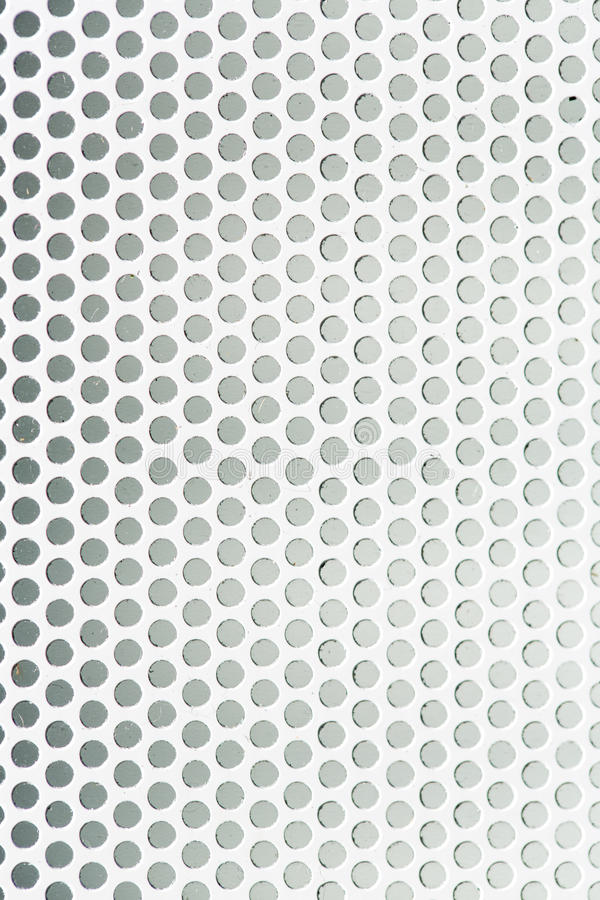Hole: (214, 7, 252, 43), (215, 289, 250, 327), (556, 9, 589, 48), (214, 89, 250, 124), (77, 291, 113, 326), (554, 373, 588, 410), (146, 290, 181, 325), (283, 131, 318, 166), (180, 229, 214, 265), (488, 253, 522, 289), (453, 352, 487, 388), (112, 228, 145, 265), (216, 249, 249, 286), (488, 331, 520, 369), (78, 7, 113, 41), (78, 88, 112, 123), (182, 108, 216, 143), (181, 190, 216, 224), (147, 333, 182, 367), (420, 9, 454, 44), (148, 8, 181, 44), (180, 70, 216, 103), (182, 269, 215, 305), (556, 50, 589, 86), (522, 70, 555, 106), (555, 251, 588, 287), (522, 273, 555, 309), (44, 352, 78, 386), (181, 28, 216, 61), (215, 170, 250, 203), (44, 230, 77, 265), (148, 250, 181, 285), (113, 271, 146, 306), (113, 312, 146, 347), (250, 69, 283, 104), (387, 151, 420, 186), (455, 30, 488, 65), (522, 111, 555, 146), (522, 192, 555, 227), (215, 50, 251, 82), (182, 311, 214, 347), (522, 314, 554, 350), (556, 333, 587, 370), (148, 89, 181, 123), (147, 129, 180, 163), (79, 130, 112, 164), (44, 271, 78, 304), (216, 333, 249, 367), (113, 354, 147, 387), (10, 373, 43, 407), (216, 373, 250, 406), (284, 212, 317, 246), (249, 232, 283, 265), (453, 313, 487, 346), (522, 355, 555, 389), (11, 7, 43, 42), (111, 29, 146, 61), (43, 69, 78, 101), (251, 150, 283, 185), (420, 333, 452, 368), (354, 9, 385, 45), (422, 130, 453, 166), (78, 49, 111, 82), (44, 108, 77, 141), (79, 212, 112, 245), (78, 374, 111, 407), (251, 29, 284, 62), (352, 132, 385, 165), (251, 191, 284, 224), (319, 192, 352, 225), (387, 193, 420, 226), (386, 313, 419, 346), (11, 47, 43, 81), (147, 50, 181, 82), (113, 69, 147, 101), (216, 131, 250, 163), (79, 170, 113, 202), (9, 251, 43, 283), (79, 251, 111, 285), (44, 311, 76, 345), (182, 353, 214, 387), (147, 374, 181, 406), (285, 49, 317, 83), (387, 72, 421, 104), (284, 91, 318, 123), (319, 110, 351, 144), (285, 171, 317, 205), (351, 173, 385, 205), (249, 272, 283, 304), (319, 272, 351, 306), (249, 313, 283, 345), (317, 354, 351, 386), (488, 93, 522, 125), (488, 212, 520, 246), (420, 374, 452, 408), (488, 374, 520, 408), (11, 168, 42, 203), (11, 331, 42, 366), (385, 233, 420, 264), (489, 10, 520, 45), (455, 191, 486, 226), (421, 211, 452, 246), (455, 272, 486, 307), (488, 293, 519, 328), (11, 89, 44, 121), (45, 150, 77, 183), (114, 151, 146, 184), (113, 191, 146, 223), (217, 211, 249, 244), (10, 211, 43, 243), (319, 29, 351, 62), (387, 30, 419, 63), (317, 71, 350, 103), (387, 110, 419, 143), (353, 212, 385, 245), (285, 252, 317, 285), (387, 273, 419, 306), (283, 374, 316, 406), (556, 214, 588, 247), (420, 294, 452, 327), (45, 28, 79, 59), (44, 190, 78, 221), (147, 212, 181, 243), (79, 332, 113, 363), (283, 293, 317, 324), (524, 31, 554, 66), (523, 231, 553, 266), (558, 292, 587, 328), (113, 109, 145, 141), (11, 129, 43, 161), (251, 110, 283, 142), (318, 231, 350, 263), (386, 354, 418, 386), (148, 171, 181, 202), (10, 293, 43, 324), (285, 9, 316, 42), (353, 91, 384, 124), (284, 334, 317, 365), (250, 354, 283, 385), (455, 72, 486, 105), (523, 151, 554, 184), (455, 152, 486, 185), (556, 173, 587, 206), (489, 132, 519, 166), (421, 252, 450, 287), (182, 151, 214, 182), (351, 293, 383, 324), (318, 314, 350, 345), (352, 374, 383, 406), (488, 52, 520, 83), (420, 172, 451, 204), (490, 173, 521, 205), (455, 233, 486, 265), (353, 49, 383, 82), (318, 153, 351, 183), (353, 333, 383, 366), (421, 91, 451, 124), (557, 133, 586, 167), (456, 112, 487, 143), (353, 253, 383, 285), (421, 51, 451, 83), (557, 93, 587, 125)
